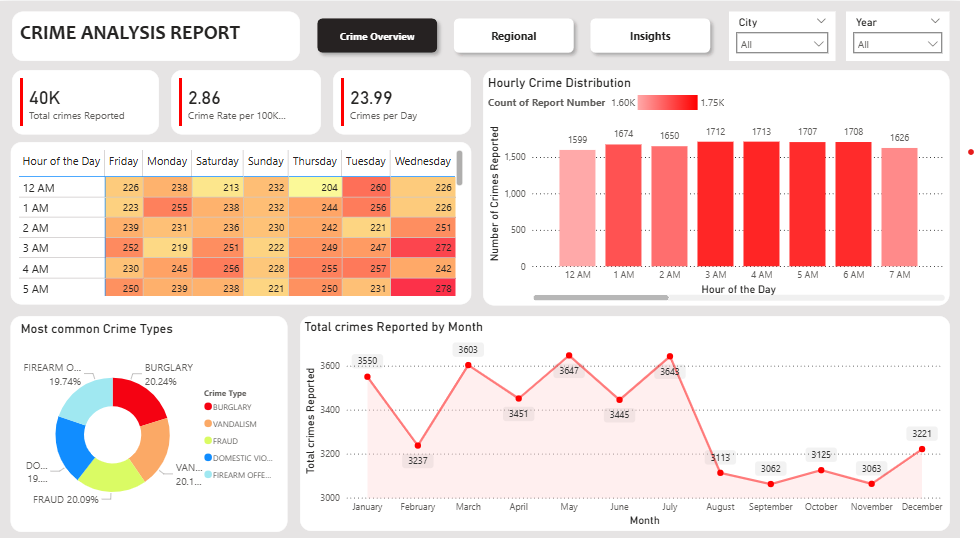

What the dashboard file says about the page in this screenshot:
{"tool":"powerbi","page":{"name":"Crime Overview","canvas":[1280,720],"ordinal":0},"visuals":[{"type":"textbox","box":[16,14,384,66],"z":0},{"type":"cardVisual","fields":{"Data":["crime_dataset_india.Total crimes Reported"]},"box":[16,92,196,86],"z":1000},{"type":"cardVisual","fields":{"Data":["crime_dataset_india.Crime Rate per 100K Population"]},"box":[228,92,200,86],"z":2000},{"type":"areaChart","fields":{"Category":["crime_dates.Date Reported.Variation.Date Hierarchy.Month"],"Y":["crime_dataset_india.Total crimes Reported"]},"box":[399.2,420.7,866.3,286.6],"z":3000},{"type":"donutChart","title":"Most common Crime Types","fields":{"Category":["crime_dataset_india.Crime Description"],"Y":["crime_dataset_india.Crime Type count"]},"box":[13.3,420.7,369.4,288.2],"z":4000},{"type":"cardVisual","fields":{"Data":["crime_dataset_india.Crimes per Day"]},"box":[444,92,184,86],"z":5000},{"type":"clusteredColumnChart","title":"Hourly Crime Distribution","fields":{"Category":["crime_dataset_india.Hour of the Day"],"Y":["CountNonNull(crime_dataset_india.Report Number)"]},"box":[644,92,622,314],"z":6000},{"type":"pivotTable","fields":{"Values":["CountNonNull(crime_dataset_india.Report Number)"],"Rows":["crime_dataset_india.Hour of the Day"],"Columns":["crime_dataset_india.DayOfWeek"]},"box":[13.3,188.8,614.6,217],"z":7000},{"type":"pageNavigator","box":[414,14,542,64],"z":8000},{"type":"slicer","fields":{"Values":["crime_dataset_india.Date of Occurrence.Variation.Date Hierarchy.Year"]},"box":[1128,14,138,66],"z":9000},{"type":"slicer","fields":{"Values":["crime_dataset_india.City"]},"box":[972,14,142,66],"z":10000}]}

Visuals, with their boxes in screenshot pixels (x1, y1, x2, y2), scaled from the page's 1280x720 canvas onto the 975x538 screenshot:
textbox: [left=12, top=10, right=305, bottom=60]
cardVisual - crime_dataset_india.Total crimes Reported: [left=12, top=69, right=161, bottom=133]
cardVisual - crime_dataset_india.Crime Rate per 100K Population: [left=174, top=69, right=326, bottom=133]
areaChart - crime_dates.Date Reported.Variation.Date Hierarchy.Month x crime_dataset_india.Total crimes Reported: [left=304, top=314, right=964, bottom=529]
"Most common Crime Types" donutChart: [left=10, top=314, right=292, bottom=530]
cardVisual - crime_dataset_india.Crimes per Day: [left=338, top=69, right=478, bottom=133]
"Hourly Crime Distribution" clusteredColumnChart: [left=491, top=69, right=964, bottom=303]
pivotTable - CountNonNull(crime_dataset_india.Report Number) x crime_dataset_india.Hour of the Day: [left=10, top=141, right=478, bottom=303]
pageNavigator: [left=315, top=10, right=728, bottom=58]
slicer - crime_dataset_india.Date of Occurrence.Variation.Date Hierarchy.Year: [left=859, top=10, right=964, bottom=60]
slicer - crime_dataset_india.City: [left=740, top=10, right=849, bottom=60]
